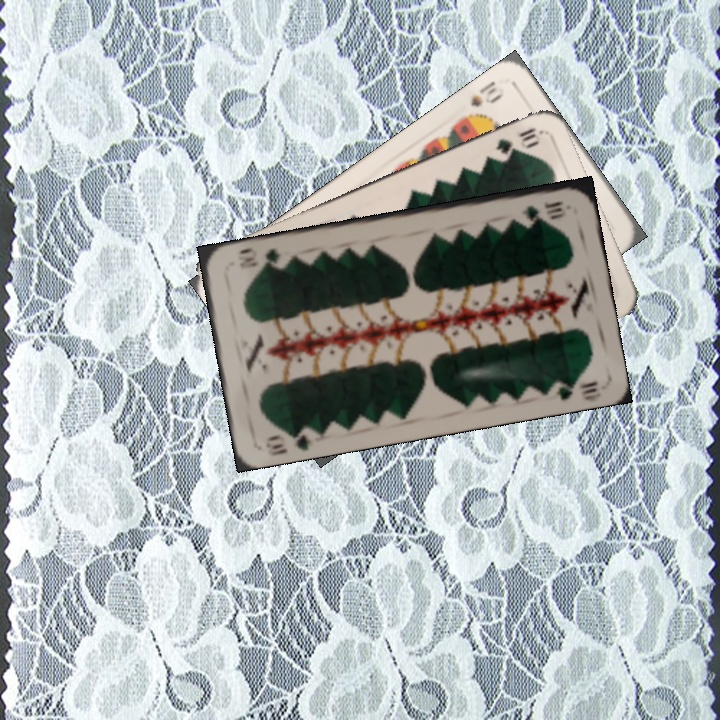G10: (262, 423, 316, 458), (491, 123, 543, 158), (518, 197, 567, 222)
S10: (466, 76, 507, 110)
